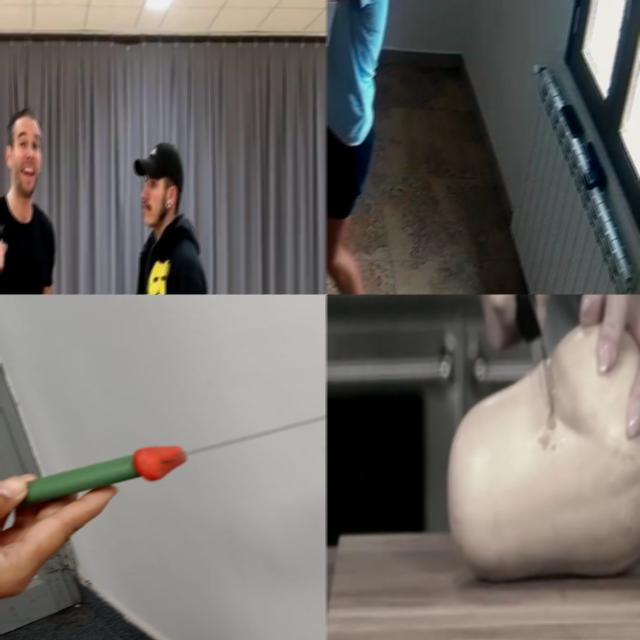Knife: (21, 414, 326, 504)
Knife_Handle: (459, 294, 556, 408), (0, 220, 8, 284)
